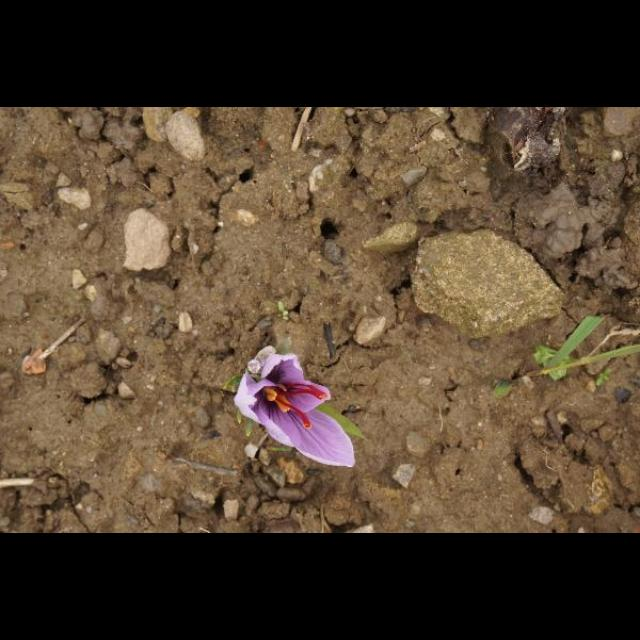flower: (237, 352, 356, 468)
